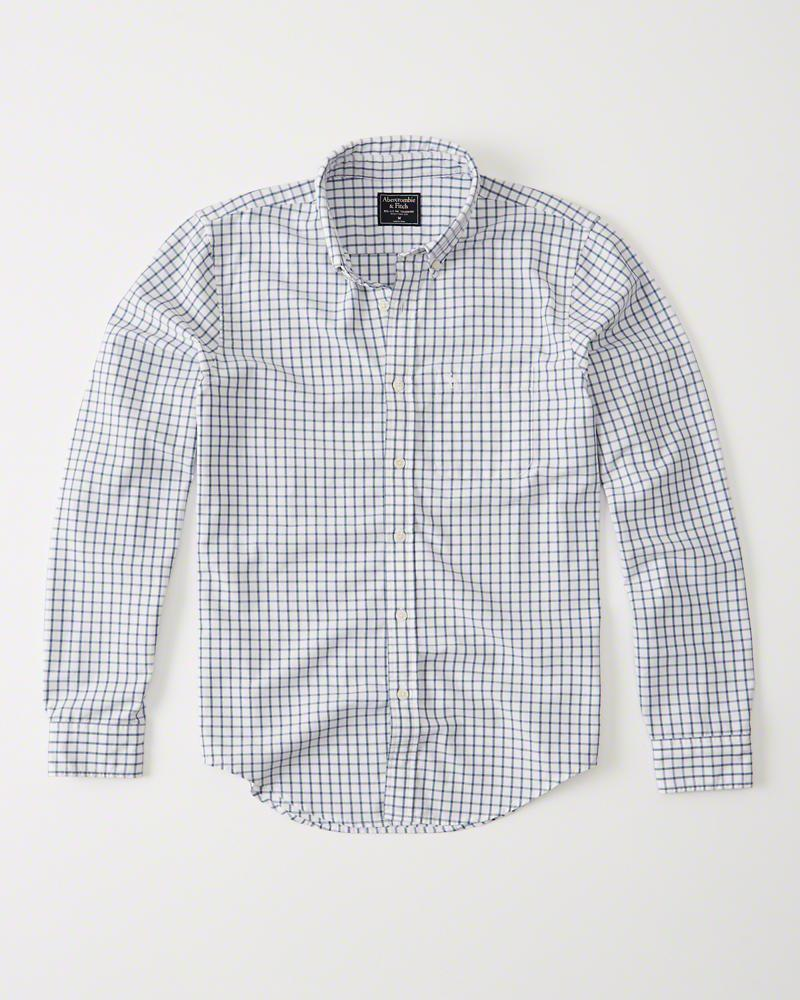teeshirt: (33, 131, 765, 851)
